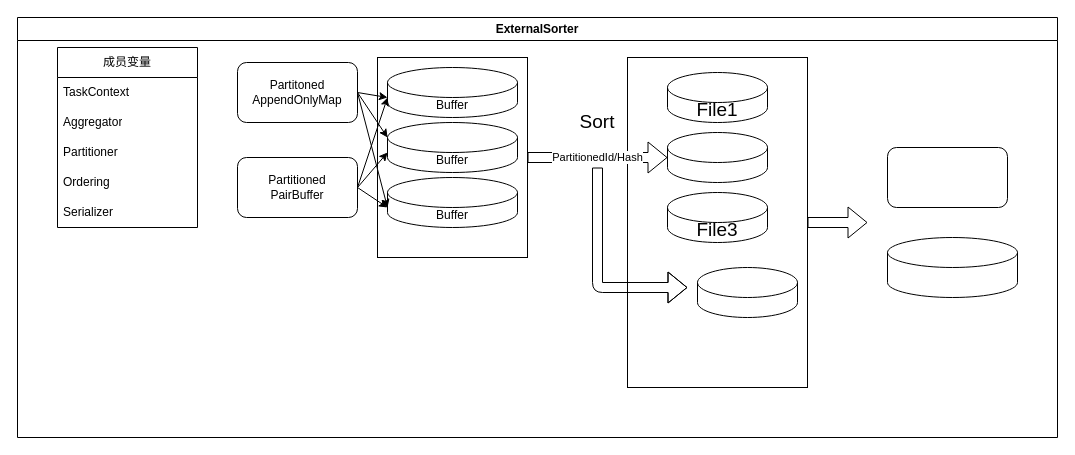
This 1075x455 diagram has some shape labels left out. Here are the shapes that lost their labels. From the top down, the centre of each, then its label:
At (717,157): "File2".
At (947,177): "Iterator".
At (952,267): "WriteFile".
At (747,292): "WriteIndexFile".
